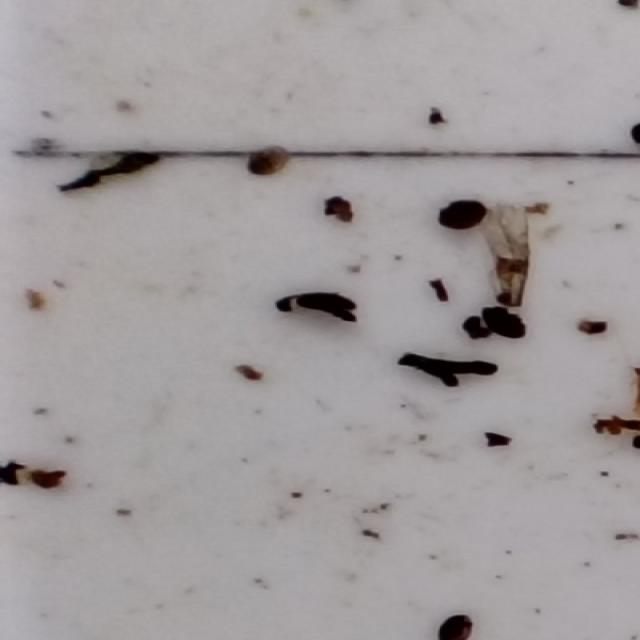varroa: (435, 201, 489, 230), (439, 613, 477, 640)
